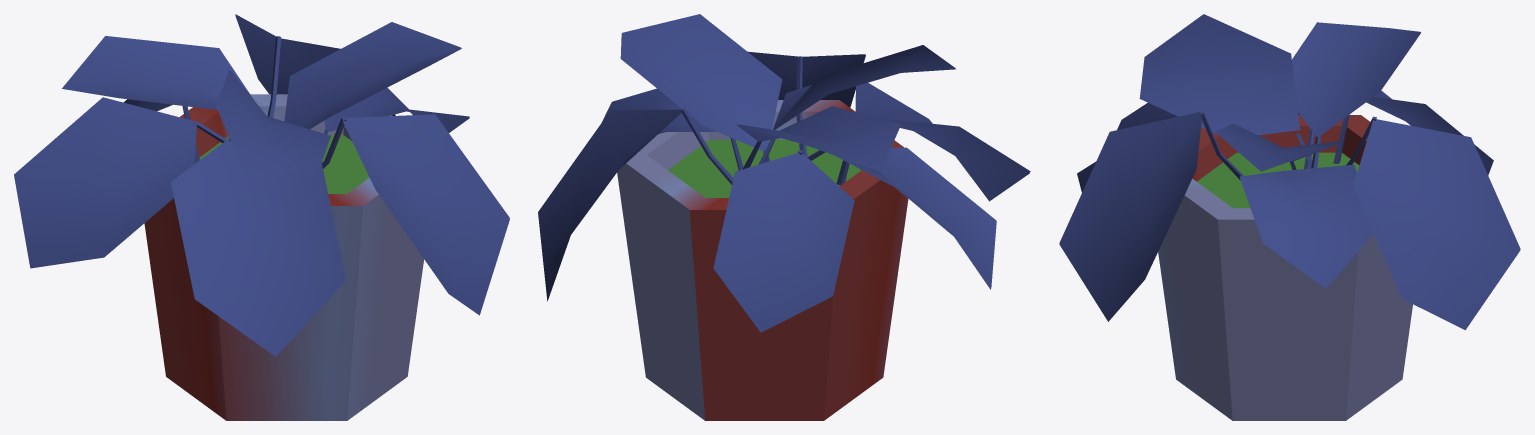
File: Bathroom2_flower.fbx
3 renders of one model, left to right at view 1: azimuth 30°, elevation 25°; view 2: azimuth 150°, elevation 25°; view 3: azimuth 270°, elevation 25°, orthographic. The views are drawn at different scales.
Visible parts, largest first — view 1: Bathroom2_flower; view 2: Bathroom2_flower; view 3: Bathroom2_flower.
Boxes of the visible parts, x1,y1,x2,y2 form: Bathroom2_flower: [14, 14, 509, 420]; Bathroom2_flower: [538, 14, 1030, 420]; Bathroom2_flower: [1059, 14, 1520, 420].
Size of the model in its own units: 59 by 45.27 by 60.54.
